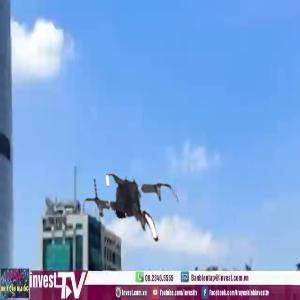drone: (80, 161, 183, 264)
